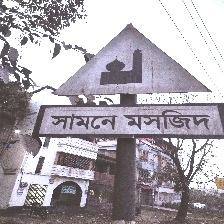Mosque in front: (48, 23, 223, 140)
